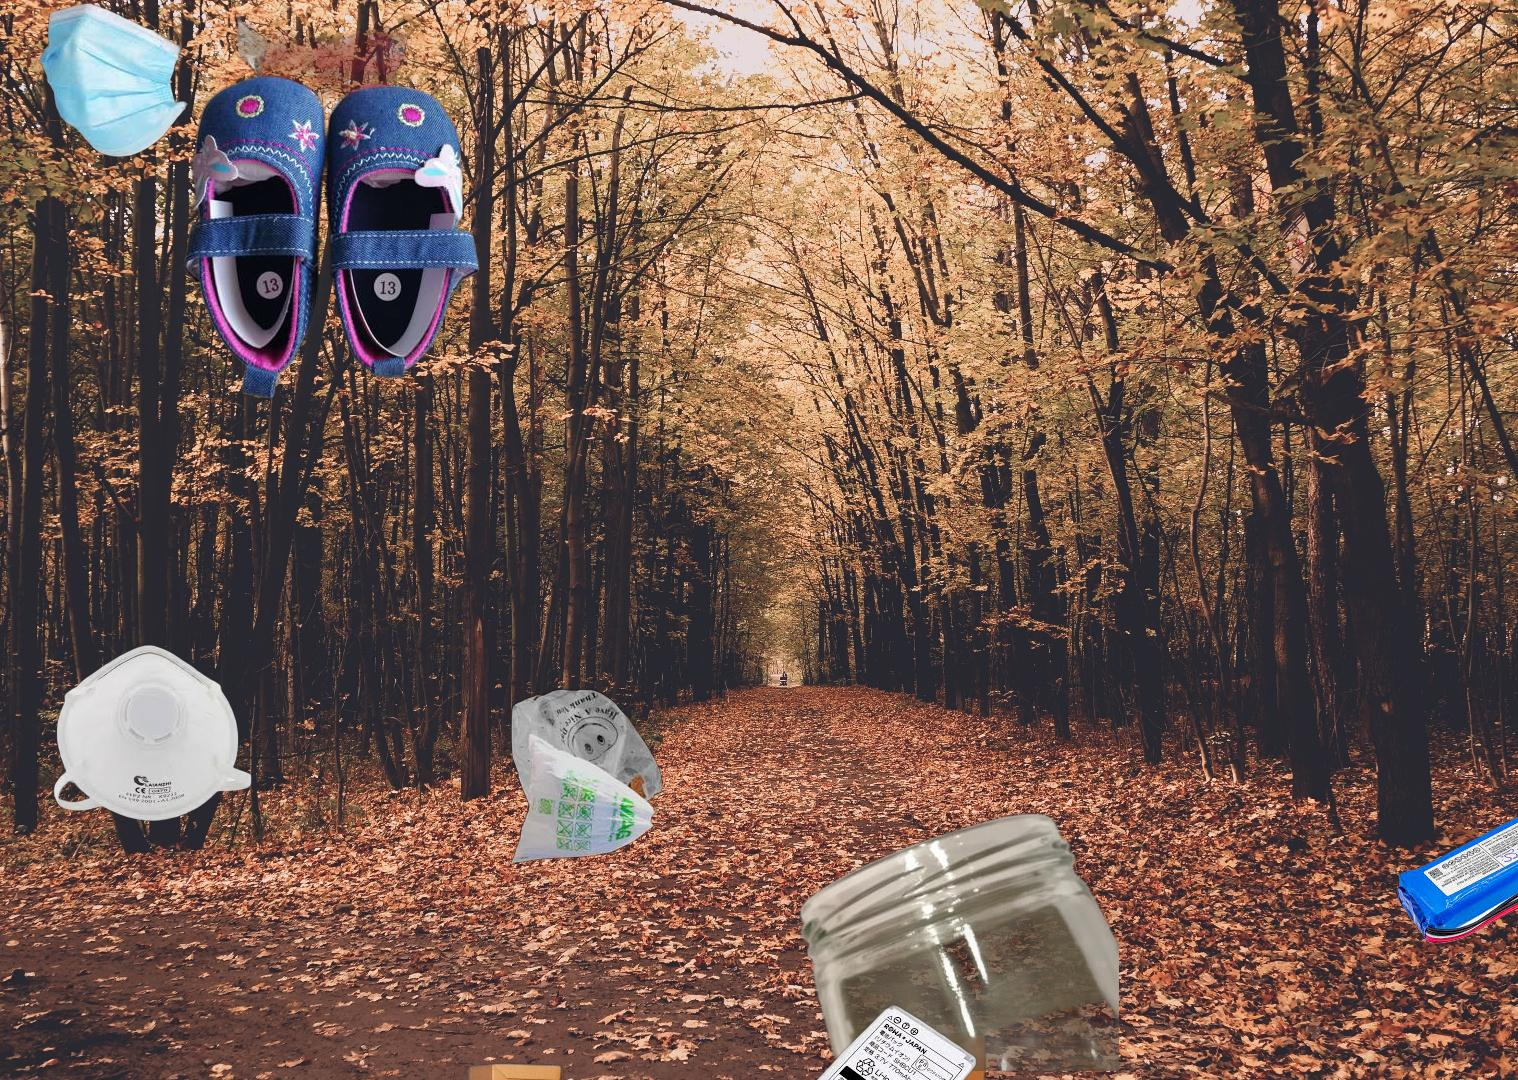battery: (1396, 792, 1518, 946), (793, 1001, 979, 1080)
glass: (793, 810, 1120, 1071)
plastic-bag: (508, 686, 679, 866)
shoes: (179, 14, 483, 402)
trash: (51, 642, 255, 824), (36, 0, 238, 160)
trashbox-cardboard: (441, 1030, 1010, 1080)
